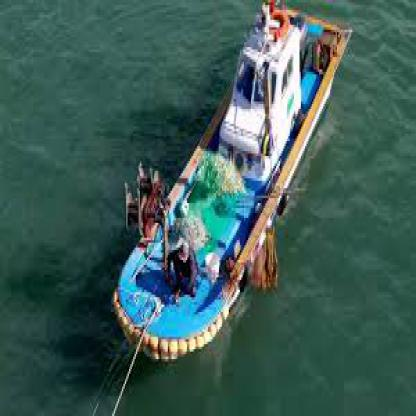fish-b: (102, 0, 361, 367)
